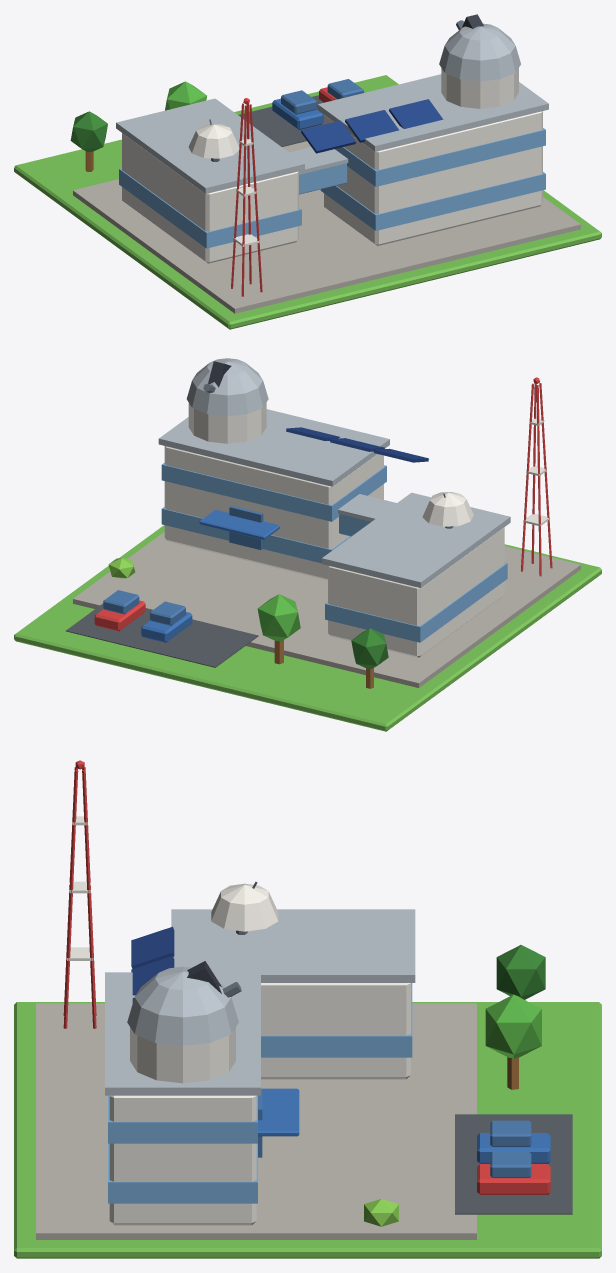
Rendered from centro_pesquisa.glb.
3 views of the same model, one above another, from view 1: azimuth 30°, elevation 25°; view 2: azimuth 150°, elevation 25°; view 3: azimuth 270°, elevation 25° (orthographic). The views are drawn at different scales.
Parts seen in each view (by area): view 1: corpo; view 2: corpo; view 3: corpo.
Part boxes in pixels (x1=…): corpo: x1=14, y1=14, x2=601, y2=329; corpo: x1=14, y1=358, x2=601, y2=731; corpo: x1=14, y1=760, x2=601, y2=1258.
Bounding box in the file's own units: 4 × 2.1 × 4.
